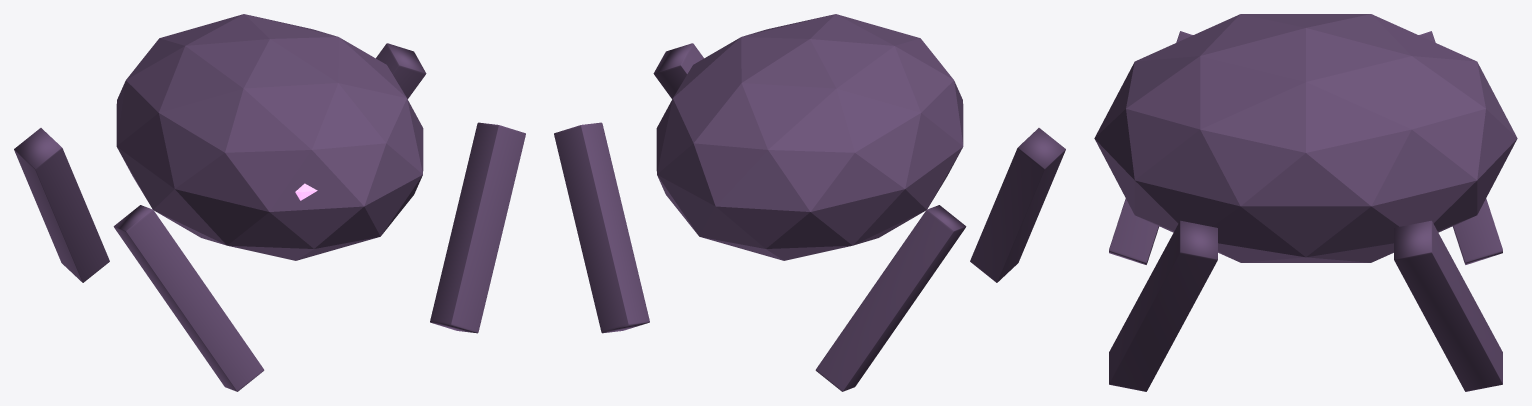
File: enemy_stalker.glb
3 renders of one model, left to right at view 1: azimuth 30°, elevation 25°; view 2: azimuth 150°, elevation 25°; view 3: azimuth 270°, elevation 25°, orthographic. The views are drawn at different scales.
Visible parts, largest first — view 1: Icosphere, Cube.002, Cube, Cube.001, Cube.003; view 2: Icosphere, Cube.003, Cube.001, Cube, Cube.002; view 3: Icosphere, Cube.002, Cube.003, Cube, Cube.001.
Boxes of the visible parts, box(x1,y1,x2,y2) form: Icosphere: box(116, 14, 423, 260); Cube.002: box(430, 122, 525, 333); Cube: box(113, 205, 264, 391); Cube.001: box(14, 128, 109, 282); Cube.003: box(376, 43, 426, 98); Icosphere: box(656, 14, 963, 260); Cube.003: box(554, 122, 649, 333); Cube.001: box(815, 205, 966, 391); Cube: box(970, 128, 1065, 282); Cube.002: box(653, 43, 703, 98); Icosphere: box(1094, 14, 1517, 262); Cube.002: box(1109, 220, 1217, 391); Cube.003: box(1394, 220, 1502, 391); Cube: box(1109, 31, 1192, 264); Cube.001: box(1419, 31, 1502, 264).
Size of the model in its own units: 1.16 by 0.7447 by 0.95.
